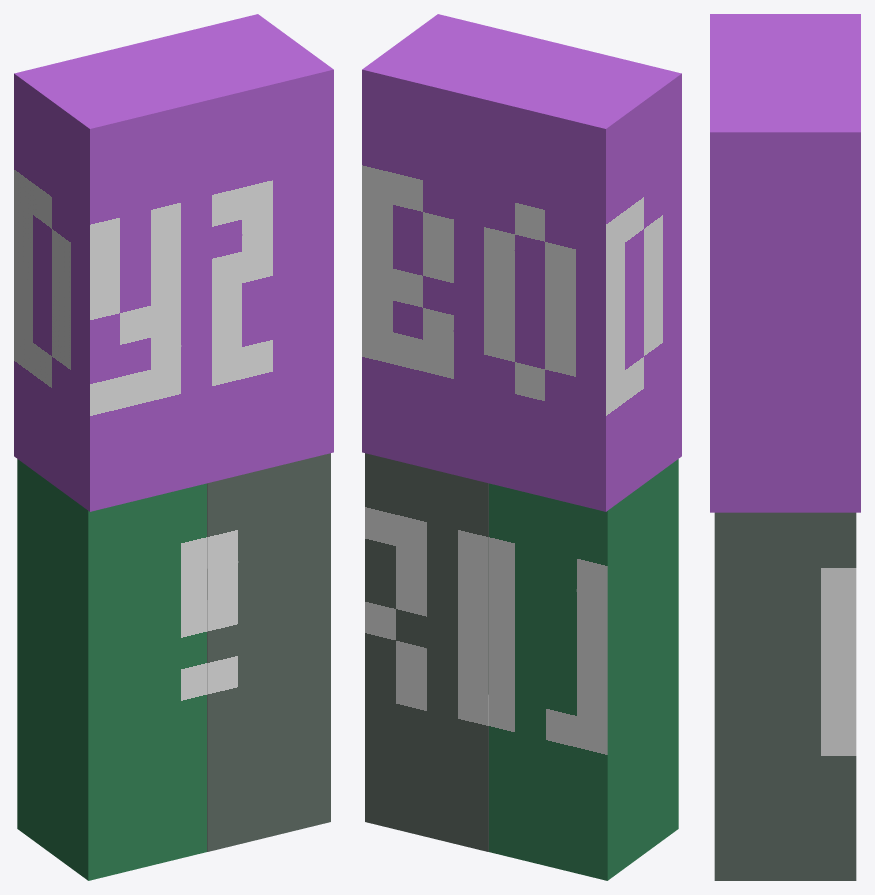
Rendered from edit_skin_bottom.obj.
3 views of the same model, side by side, from view 1: azimuth 30°, elevation 25°; view 2: azimuth 150°, elevation 25°; view 3: azimuth 270°, elevation 25° (orthographic).
Parts seen in each view (by area): view 1: legs; view 2: legs; view 3: legs.
Part boxes in pixels (x1=…): legs: x1=14, y1=14, x2=333, y2=880; legs: x1=362, y1=14, x2=681, y2=880; legs: x1=710, y1=14, x2=860, y2=880.
Bounding box in the file's own units: 4.31 × 12.72 × 2.32.
